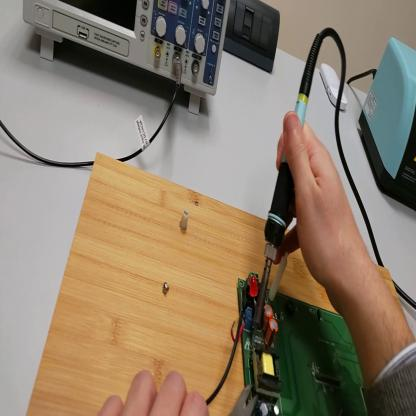hand: (272, 114, 363, 295), (103, 368, 209, 415)
low voltage board: (207, 273, 370, 416)
oscilloscope: (24, 3, 232, 115)
welder probe tip: (251, 33, 325, 357)
welder station: (358, 37, 415, 211)
working area: (28, 153, 405, 413)
